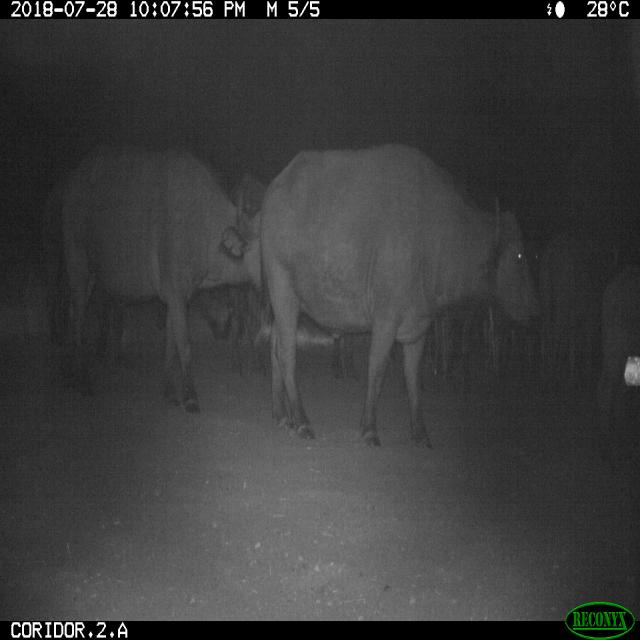buffalo: (147, 144, 432, 436), (258, 142, 512, 450)
